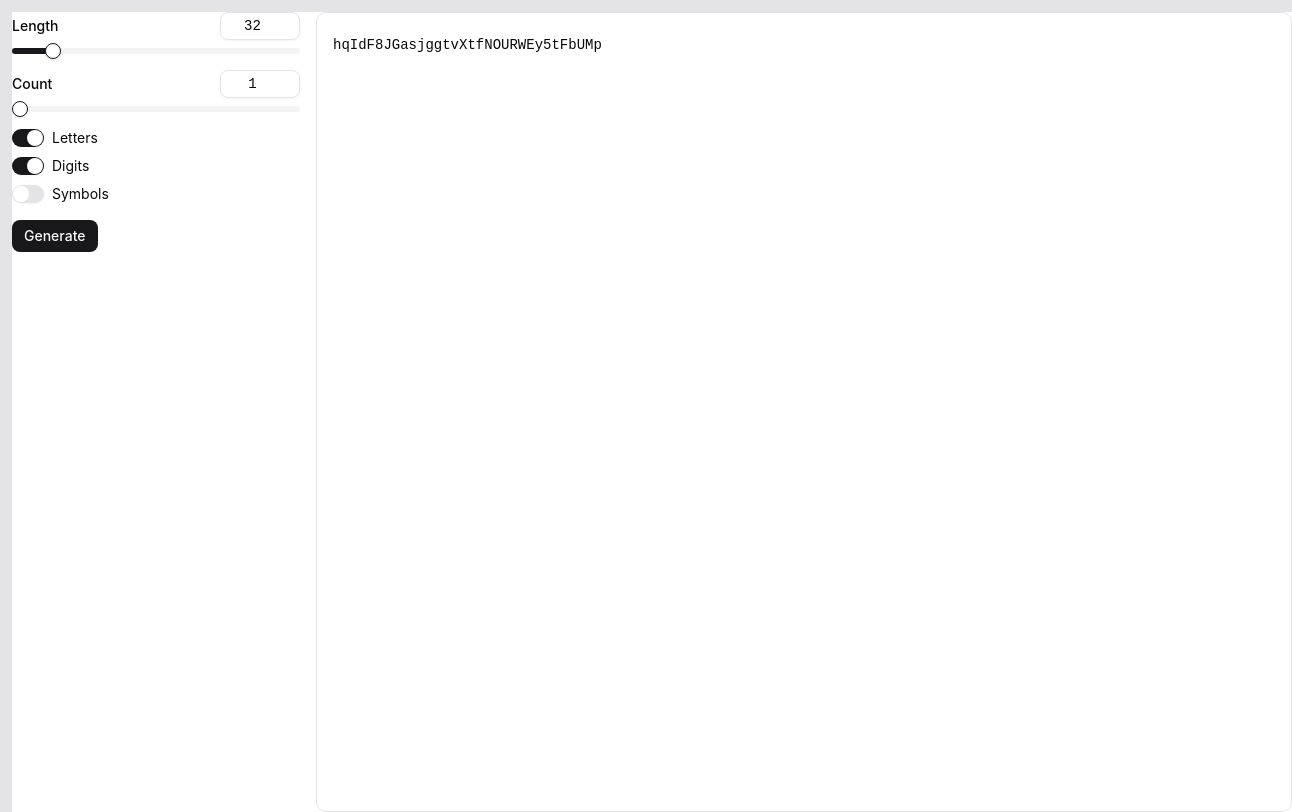
Test case: Generate button is disabled when no charset is selected
Click the switch named "letters" next to "letters": (28, 138) [12,129,44,147]
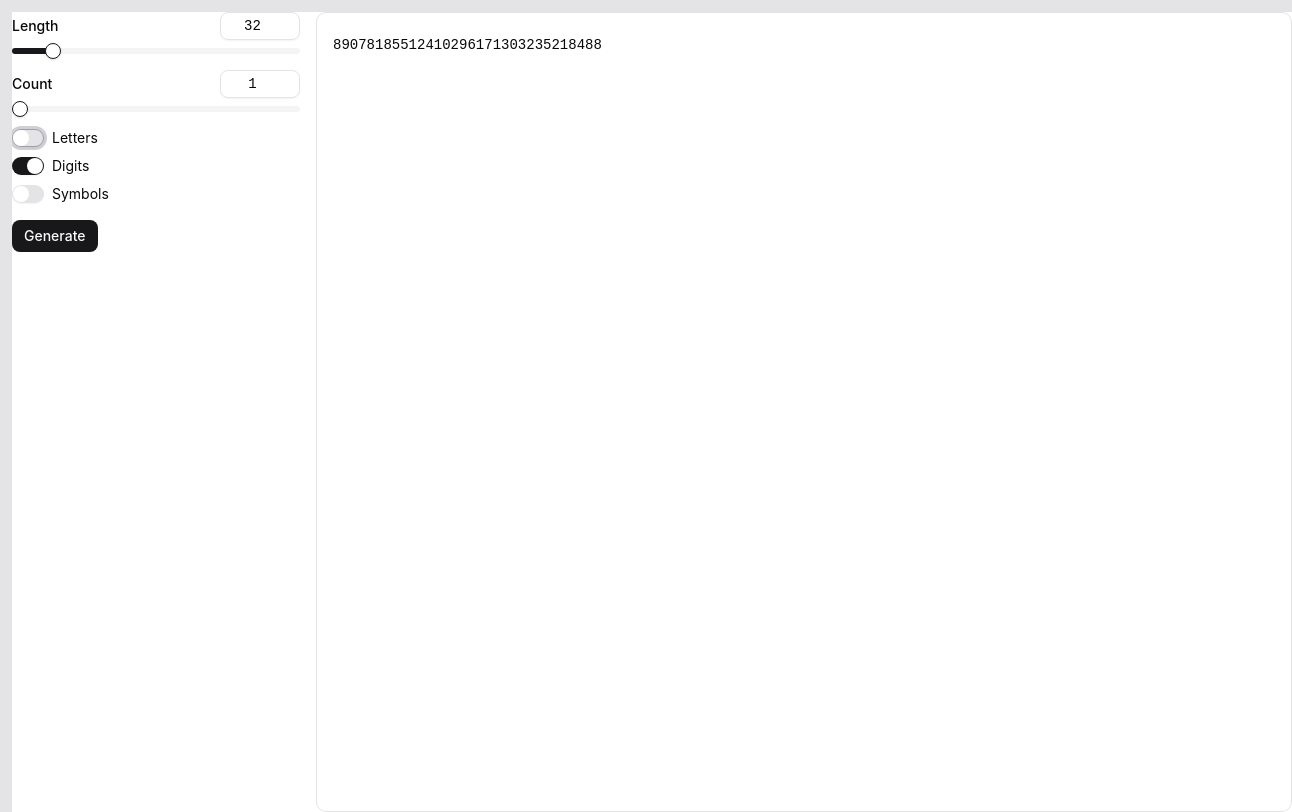
Click the switch named "digits" next to "digits": (28, 166) [12,157,44,175]
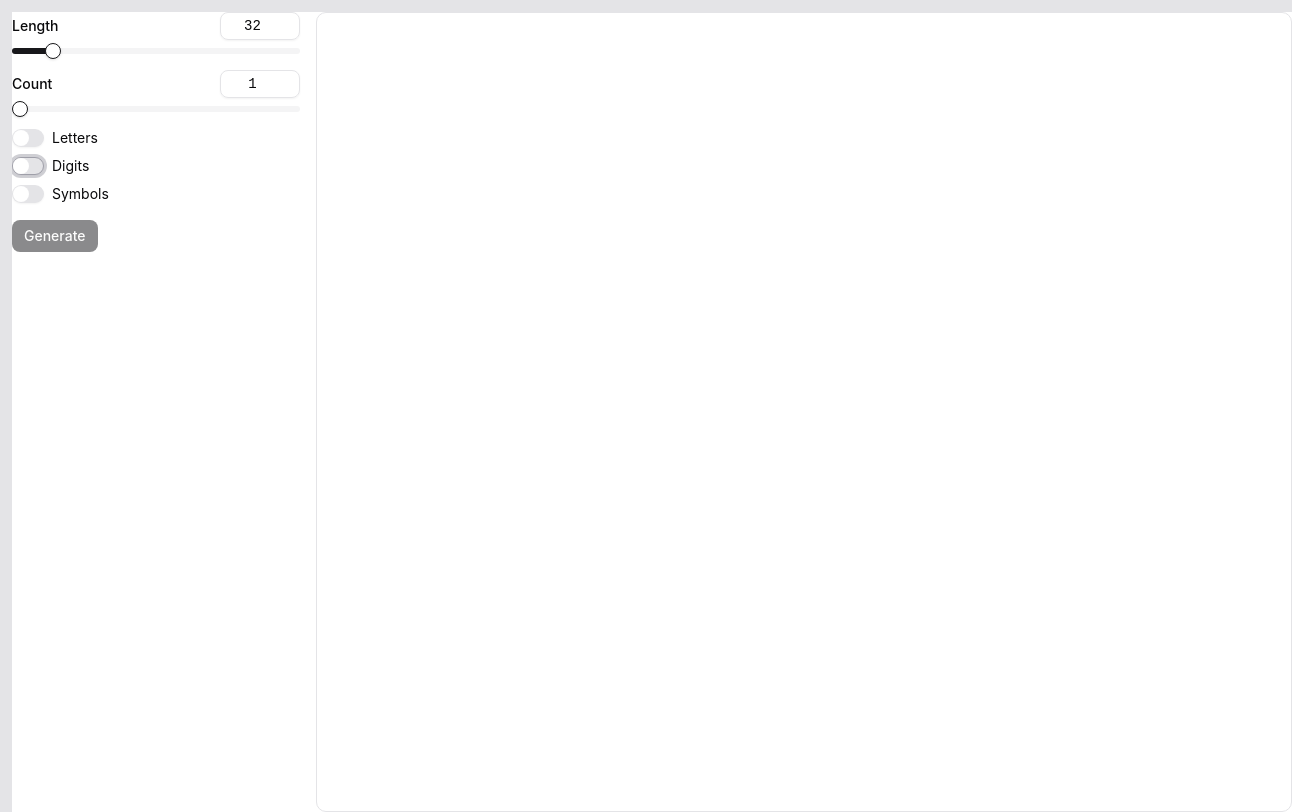
expect the button "Generate" is disabled: met, box [12,220,98,252]
